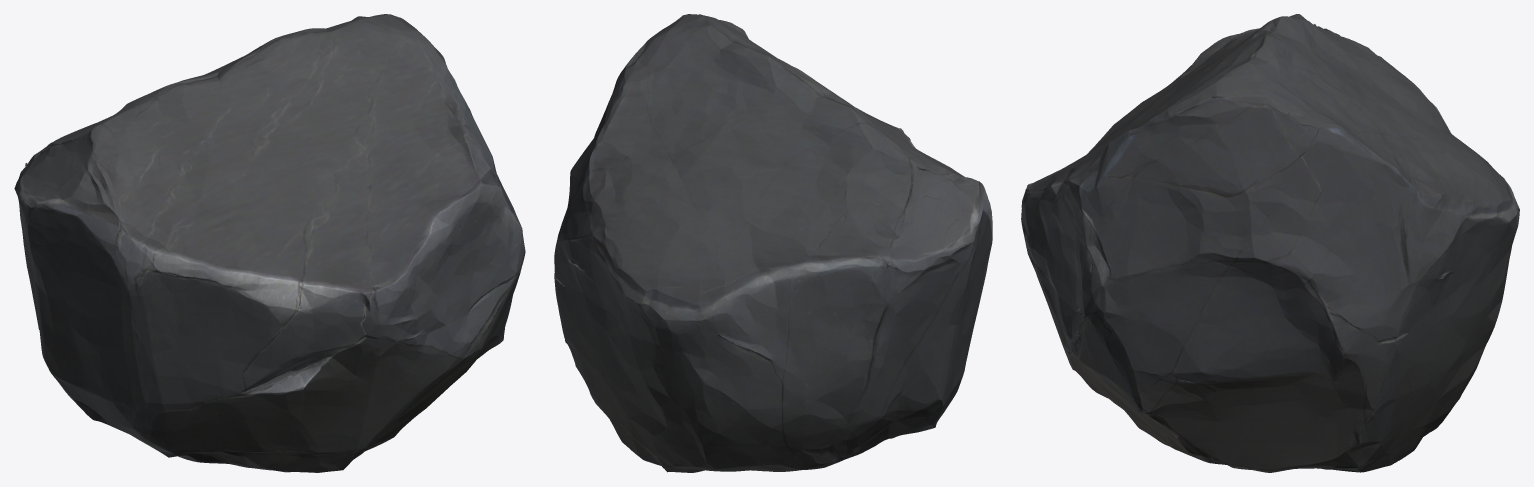
File: Coal.fbx
The picture shows the model from 3 angles, left to right: view 1: azimuth 30°, elevation 25°; view 2: azimuth 150°, elevation 25°; view 3: azimuth 270°, elevation 25°; orthographic projection. The views are drawn at different scales.
Parts seen in each view (by area): view 1: temp; view 2: temp; view 3: temp.
Part boxes in pixels (bbox=[...]): temp: bbox=[14, 14, 525, 472]; temp: bbox=[554, 14, 992, 472]; temp: bbox=[1021, 14, 1519, 472].
Size of the model in its own units: 195 by 176 by 200.
1 material, 1 textured.
